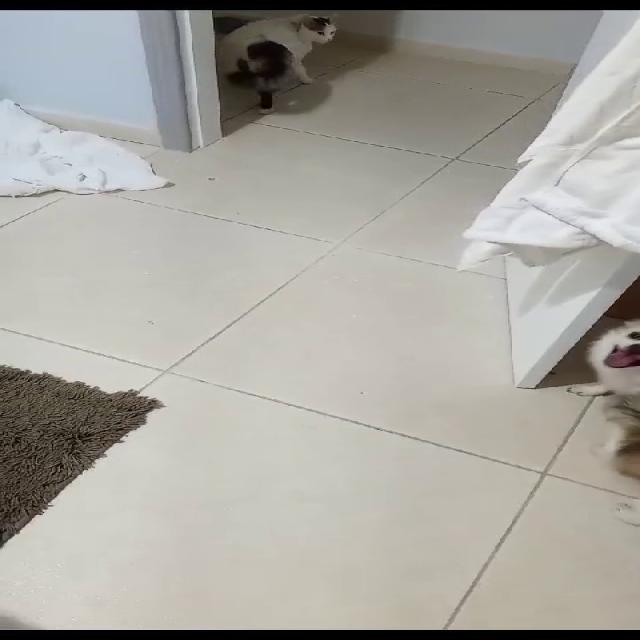Simba: (220, 10, 349, 115)
